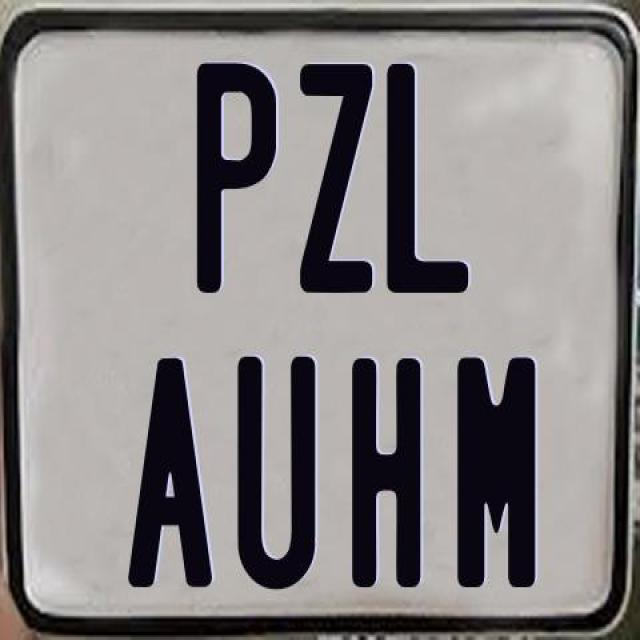A: (126, 358, 215, 588)
H: (348, 355, 419, 586)
L: (386, 64, 469, 296)
M: (456, 356, 538, 588)
P: (194, 59, 278, 298)
U: (237, 357, 316, 596)
Z: (300, 61, 378, 294)
